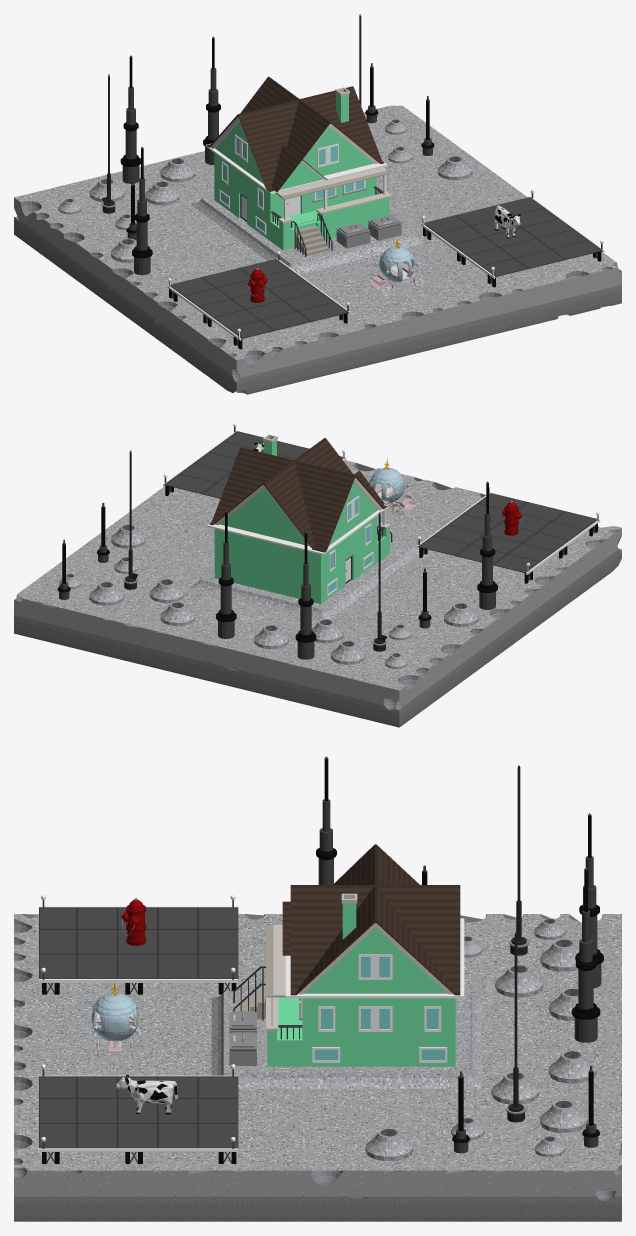
3 views of the same model, one above another, from view 1: azimuth 30°, elevation 25°; view 2: azimuth 150°, elevation 25°; view 3: azimuth 270°, elevation 25° (orthographic). The views are drawn at different scales.
Parts seen in each view (by area): view 1: Cube.027, Cube.352, Cube.025, Cube.026, Cube.028, VEHICLES_FANTASY_CARRIAGE, Cylinder.020, Cylinder.021, Cylinder.017, Cube.029, Cube.030, Cylinder.027 (+5 smaller); view 2: Cube.027, Cube.352, Cube.025, Cube.028, Cube.026, Cylinder.020, VEHICLES_FANTASY_CARRIAGE, Cylinder.021, Cylinder.017, Cylinder.031, Cylinder.028, Cylinder.029 (+8 smaller); view 3: Cube.027, Cube.352, Cube.025, Cube.026, Cube.028, Cylinder.017, VEHICLES_FANTASY_CARRIAGE, Cylinder.020, Cylinder.021, ANIMAL_VACA, Cylinder.033, Cylinder.031 (+11 smaller).
Boxes of the visible parts, left/top/right/bottom form: Cube.027: left=14, top=105, right=621, bottom=394; Cube.352: left=205, top=76, right=392, bottom=256; Cube.025: left=167, top=251, right=350, bottom=349; Cube.026: left=421, top=189, right=604, bottom=287; Cube.028: left=191, top=195, right=424, bottom=274; VEHICLES_FANTASY_CARRIAGE: left=368, top=237, right=424, bottom=293; Cylinder.020: left=120, top=55, right=140, bottom=183; Cylinder.021: left=132, top=146, right=152, bottom=275; Cylinder.017: left=203, top=36, right=220, bottom=164; Cube.029: left=336, top=222, right=370, bottom=248; Cube.030: left=368, top=215, right=401, bottom=240; Cylinder.027: left=160, top=158, right=195, bottom=182; Cube.027: left=14, top=460, right=621, bottom=727; Cube.352: left=206, top=434, right=392, bottom=603; Cube.025: left=417, top=485, right=600, bottom=583; Cube.028: left=190, top=538, right=419, bottom=620; Cube.026: left=163, top=423, right=346, bottom=498; Cylinder.020: left=295, top=531, right=316, bottom=659; VEHICLES_FANTASY_CARRIAGE: left=369, top=458, right=415, bottom=515; Cylinder.021: left=477, top=481, right=497, bottom=609; Cylinder.017: left=216, top=510, right=236, bottom=638; Cylinder.031: left=89, top=581, right=124, bottom=605; Cylinder.028: left=331, top=640, right=365, bottom=664; Cylinder.029: left=160, top=601, right=195, bottom=626; Cube.027: left=14, top=914, right=621, bottom=1221; Cube.352: left=233, top=844, right=464, bottom=1066; Cube.025: left=39, top=895, right=238, bottom=994; Cube.026: left=39, top=1064, right=238, bottom=1163; Cube.028: left=211, top=991, right=481, bottom=1088; Cylinder.017: left=571, top=867, right=600, bottom=1042; VEHICLES_FANTASY_CARRIAGE: left=89, top=981, right=140, bottom=1057; Cylinder.020: left=575, top=813, right=603, bottom=988; Cylinder.021: left=316, top=756, right=336, bottom=884; ANIMAL_VACA: left=115, top=1074, right=177, bottom=1114; Cylinder.033: left=365, top=1128, right=413, bottom=1160; Cylinder.031: left=540, top=1100, right=587, bottom=1132.
Bounding box in the file's own units: 4000 × 1799 × 4000.
31 materials, 4 textured.
